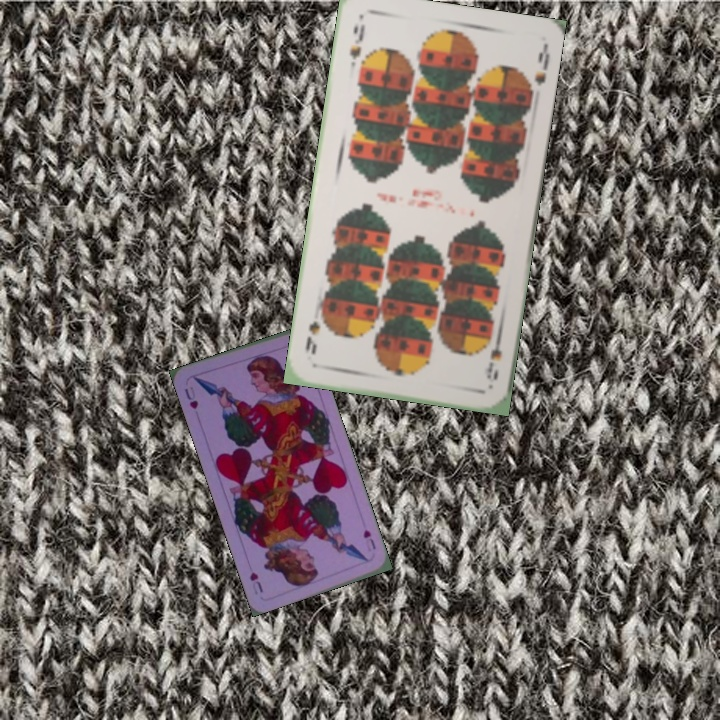HU: (180, 383, 201, 412), (359, 525, 378, 552)
S9: (481, 328, 505, 383), (345, 20, 368, 62)
